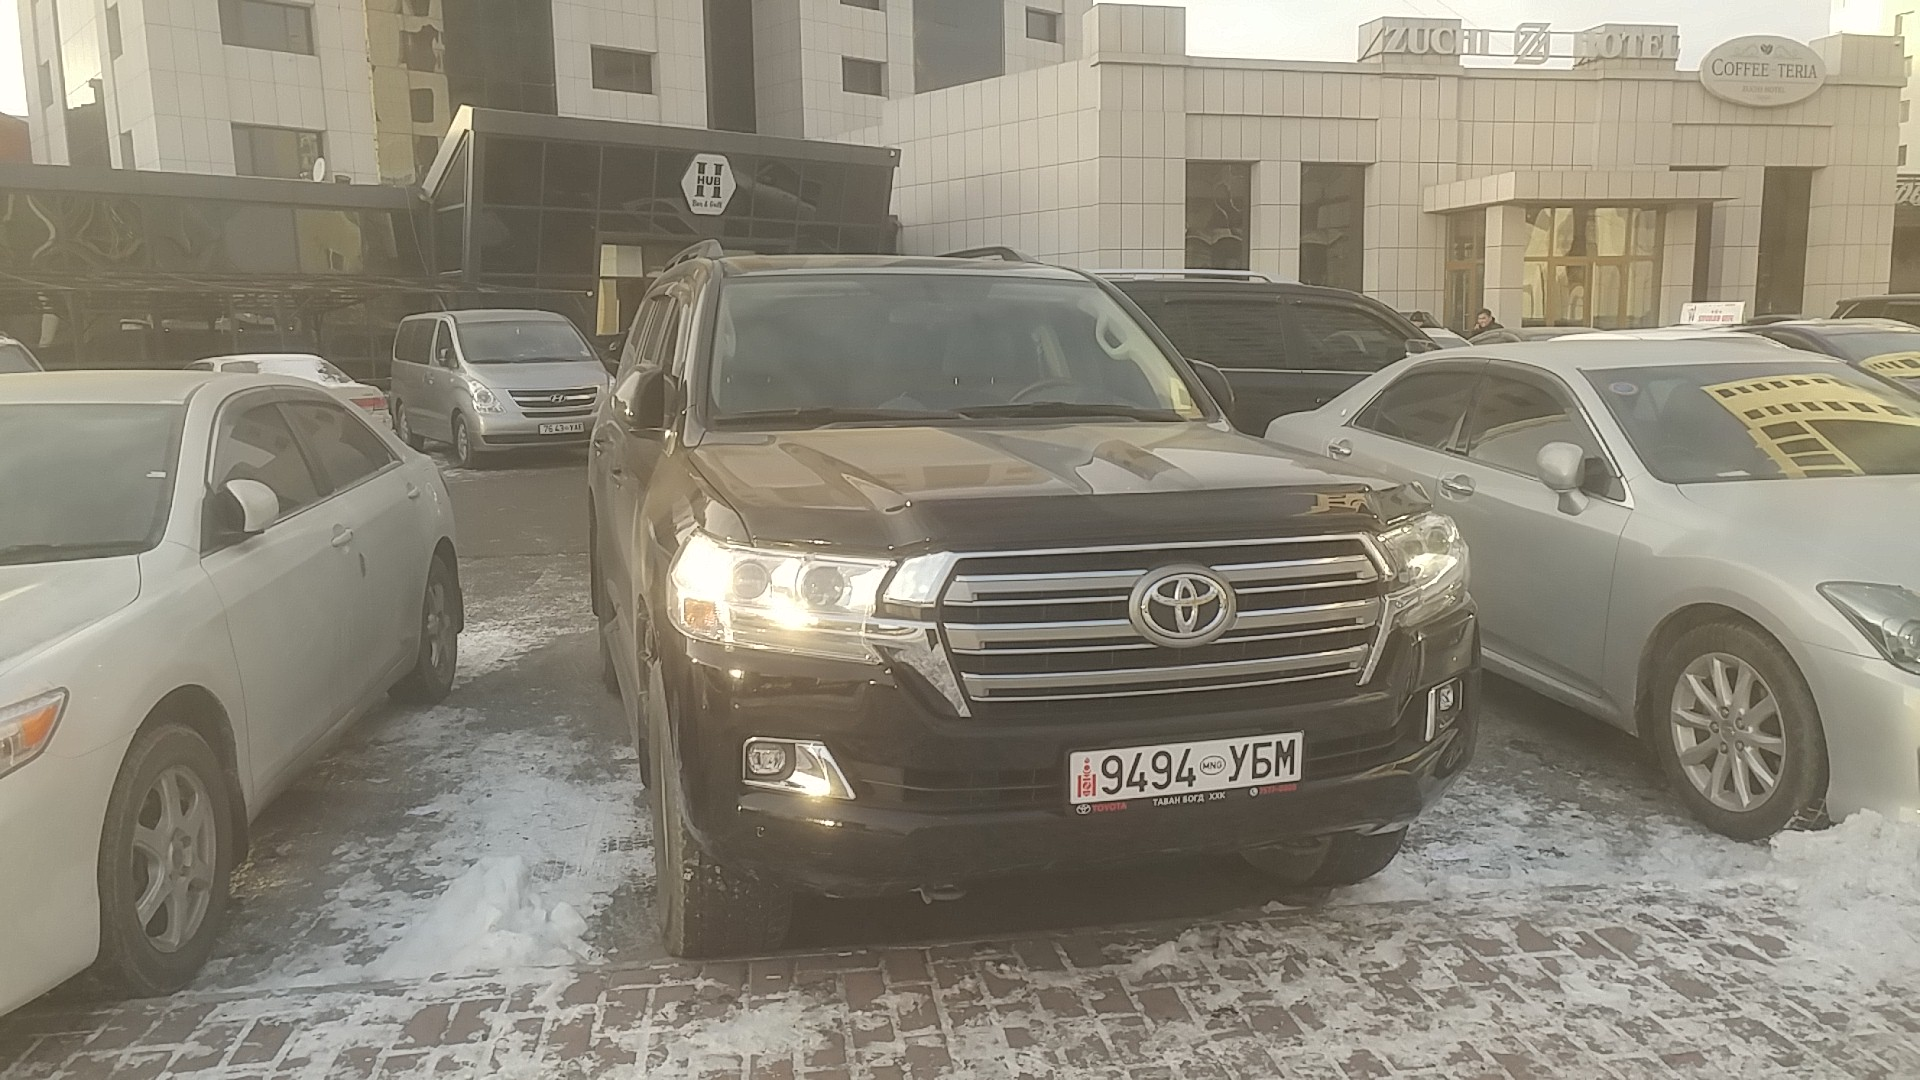4: (1126, 753, 1150, 793), (1175, 747, 1197, 787)
9: (1149, 749, 1173, 791), (1100, 755, 1124, 796)
b: (1250, 740, 1274, 780)
m: (1274, 739, 1298, 779)
plate: (1065, 727, 1308, 814)
u: (1229, 744, 1249, 784)
